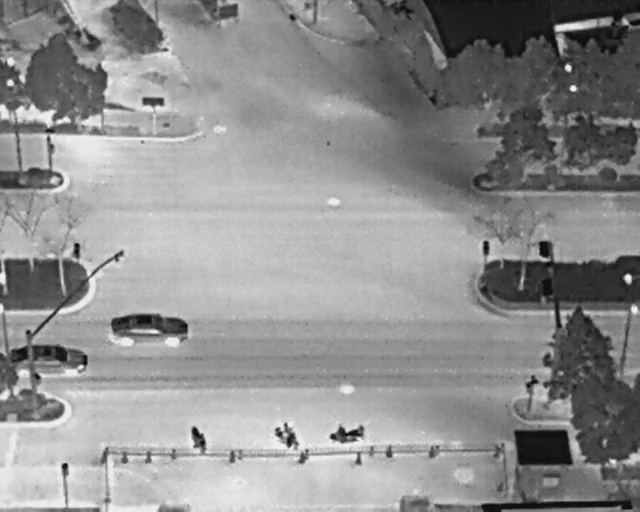Bicycle: (183, 420, 211, 456), (273, 422, 300, 451), (327, 425, 366, 444)
Car: (106, 312, 189, 347), (7, 342, 89, 376)
